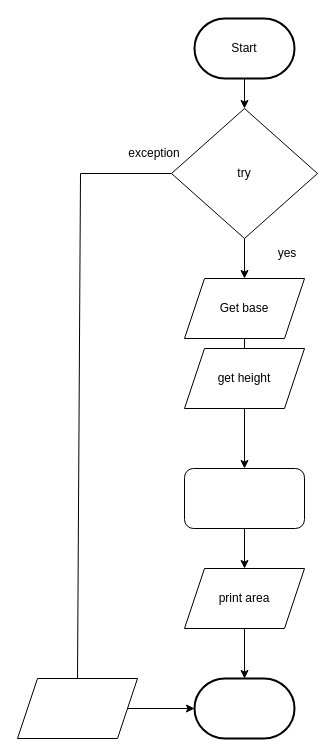
Some shapes in this 335 by 756 pixel diagram are drawn without their labels. The shapes that lost their labels are listed below. From the top down, each one's centre as x and y in pixels, then its label:
(244,498): area = b(h)/2
(77,708): print Invalid Input
(244,708): Stop
